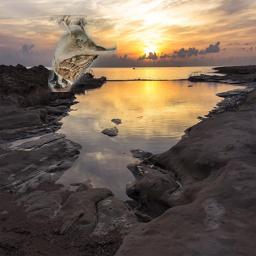Sparrow: (49, 16, 118, 93)
